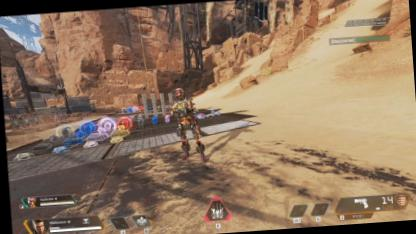Target: (173, 87, 208, 163)
